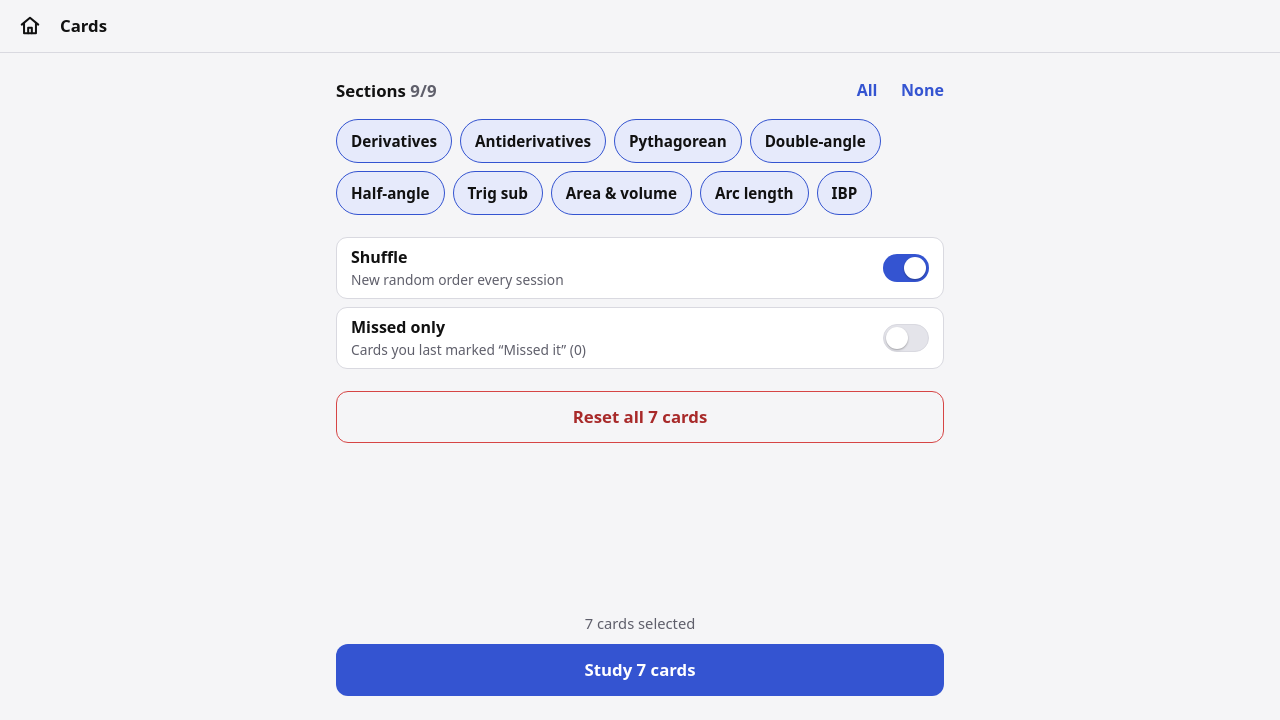
it: filter panel › persists section, shuffle, and missed-only choices
The width and height of the screenshot is (1280, 720).
Later steps or results of the test are not shown.
What coordinates should you click on to do the following:
click the button "Derivatives"
I would click on:
 (394, 141)
Its box is top-left (336, 119), bottom-right (452, 163).
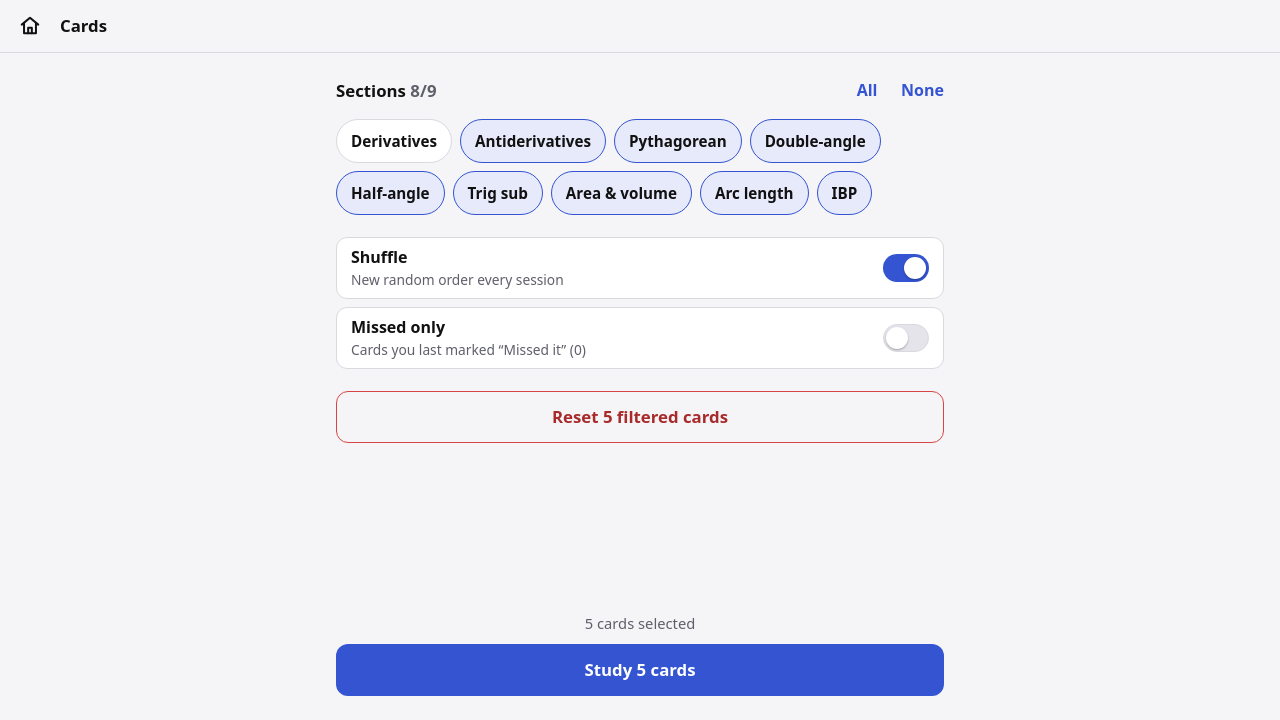
What coordinates should you click on to do the following:
click the switch labelled "Shuffle New random order every session"
I would click on:
 (379, 257)
Its box is top-left (336, 237), bottom-right (944, 299).
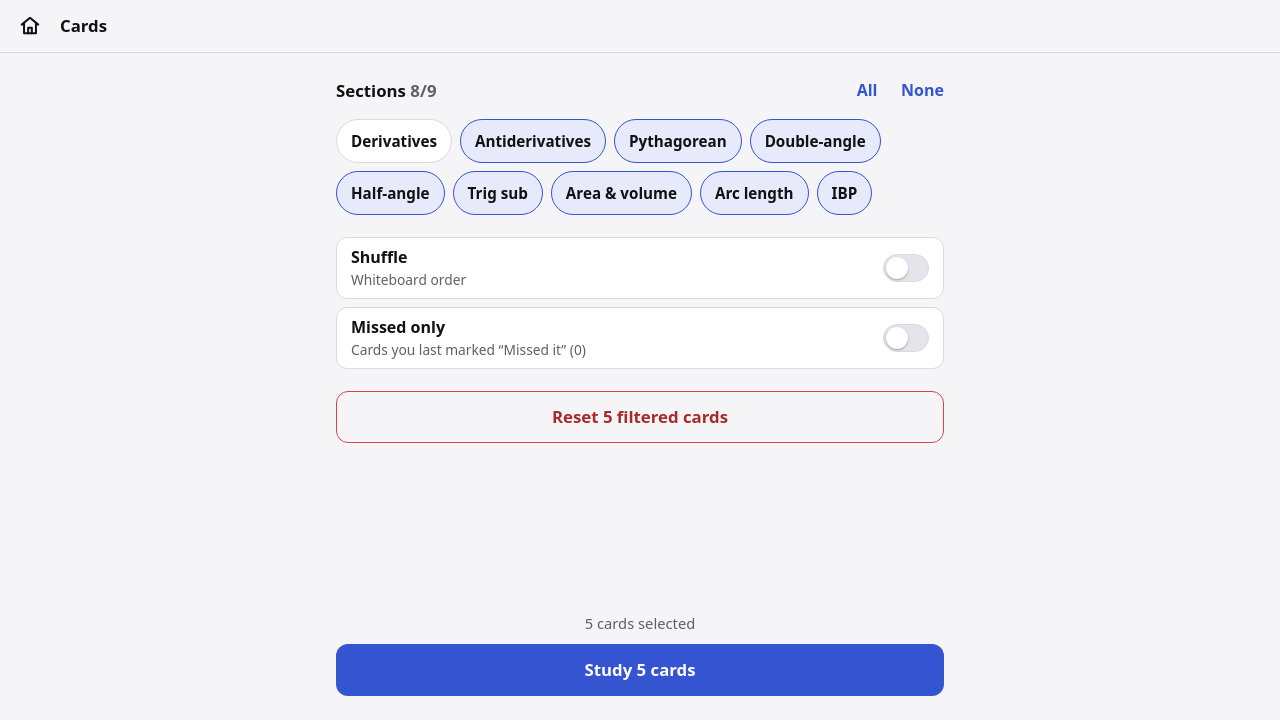
expect the text "5 cards selected" is shown: met, box top-left (585, 613), bottom-right (695, 633)
